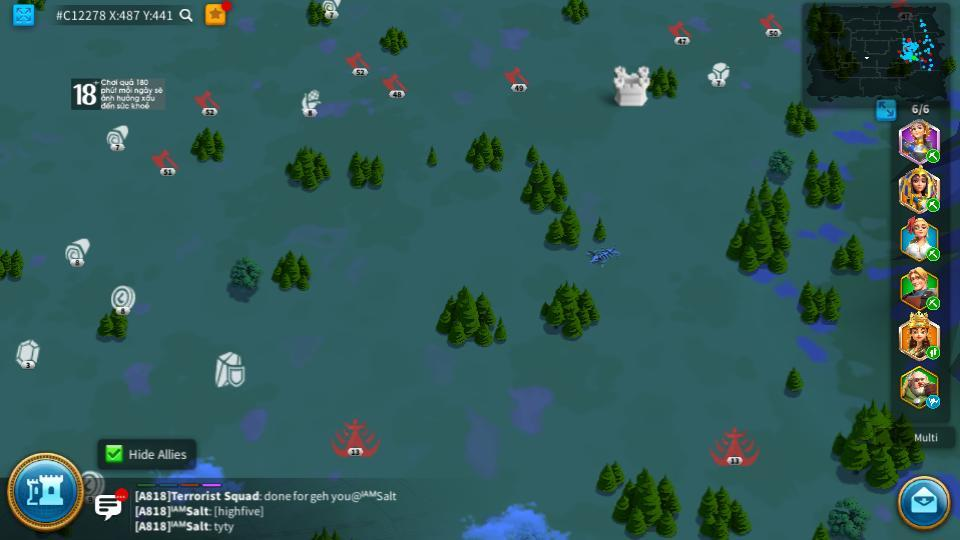gem-z-out: (14, 340, 41, 368)
march_farming: (925, 197, 941, 212), (925, 345, 941, 359), (925, 297, 942, 310), (925, 149, 942, 162), (925, 249, 941, 261)
march_idle: (925, 396, 942, 408)
